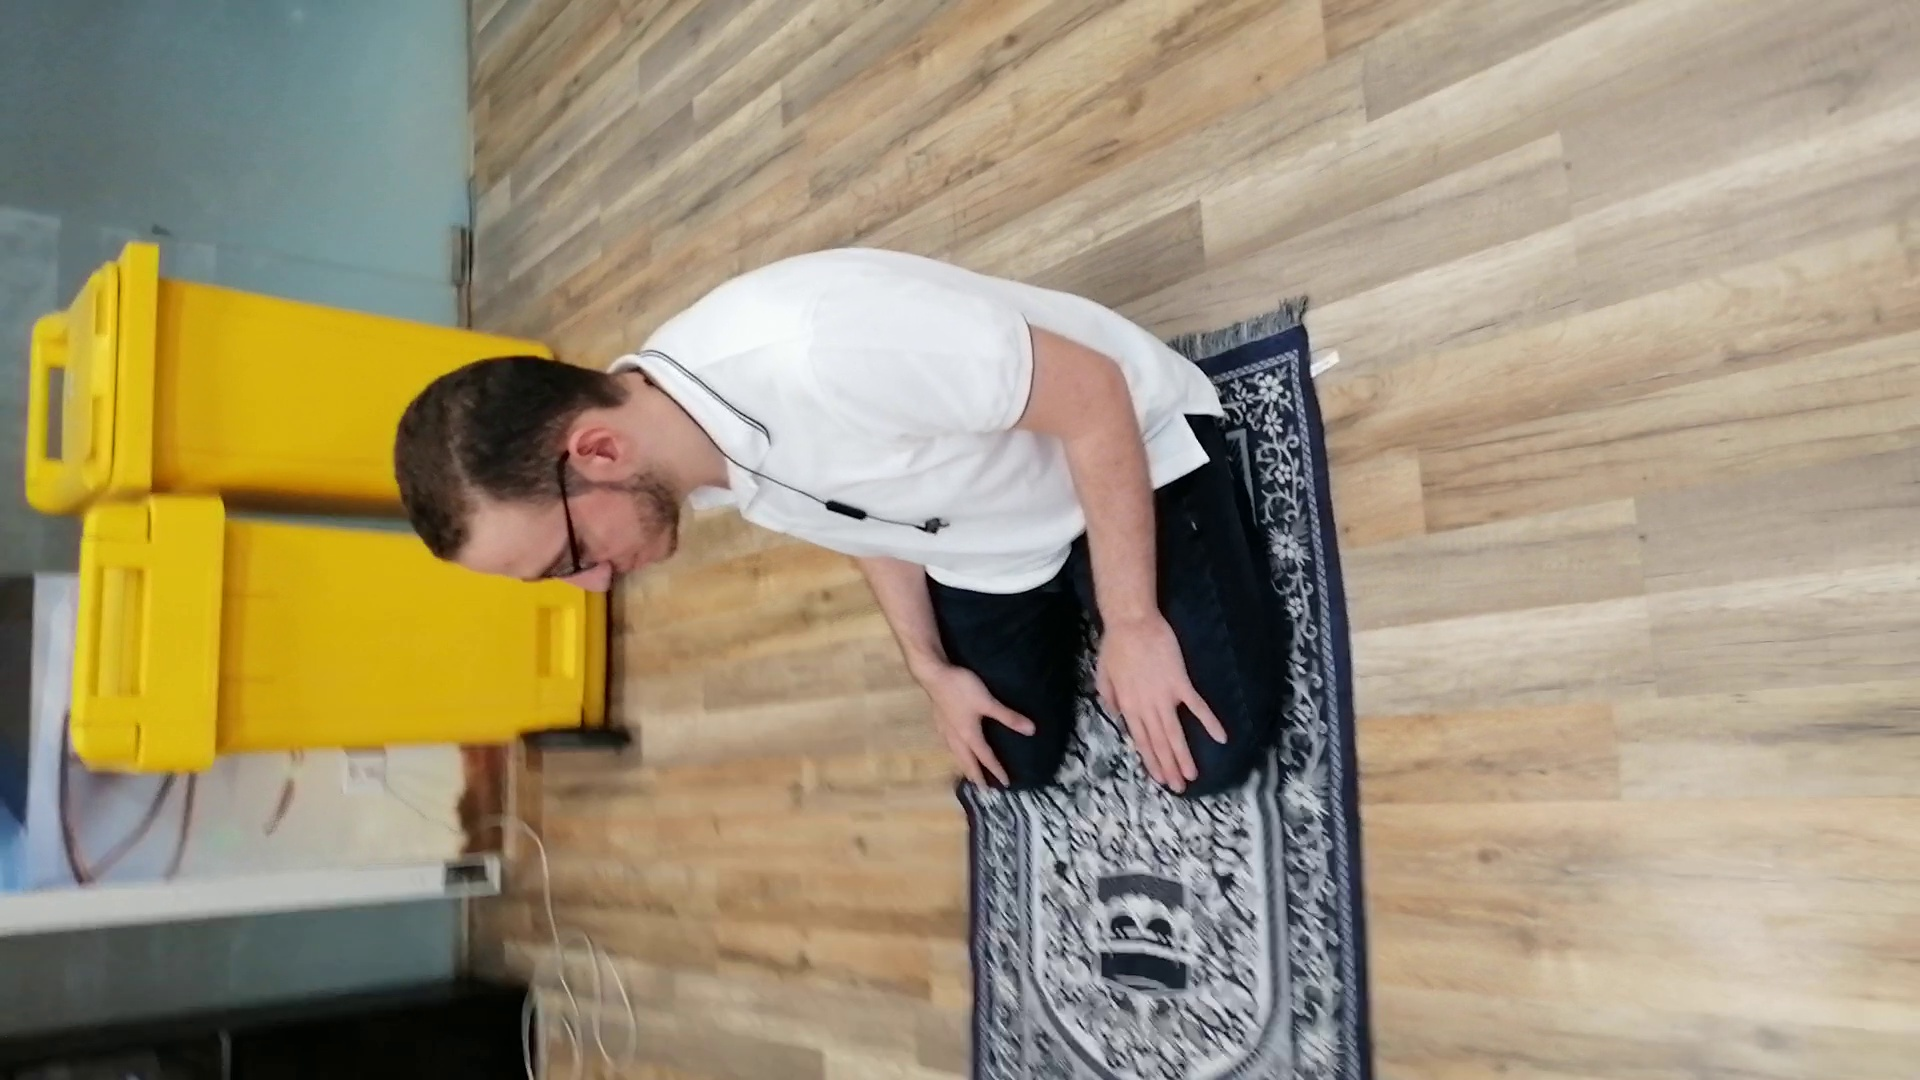sitting: (380, 235, 1302, 808)
